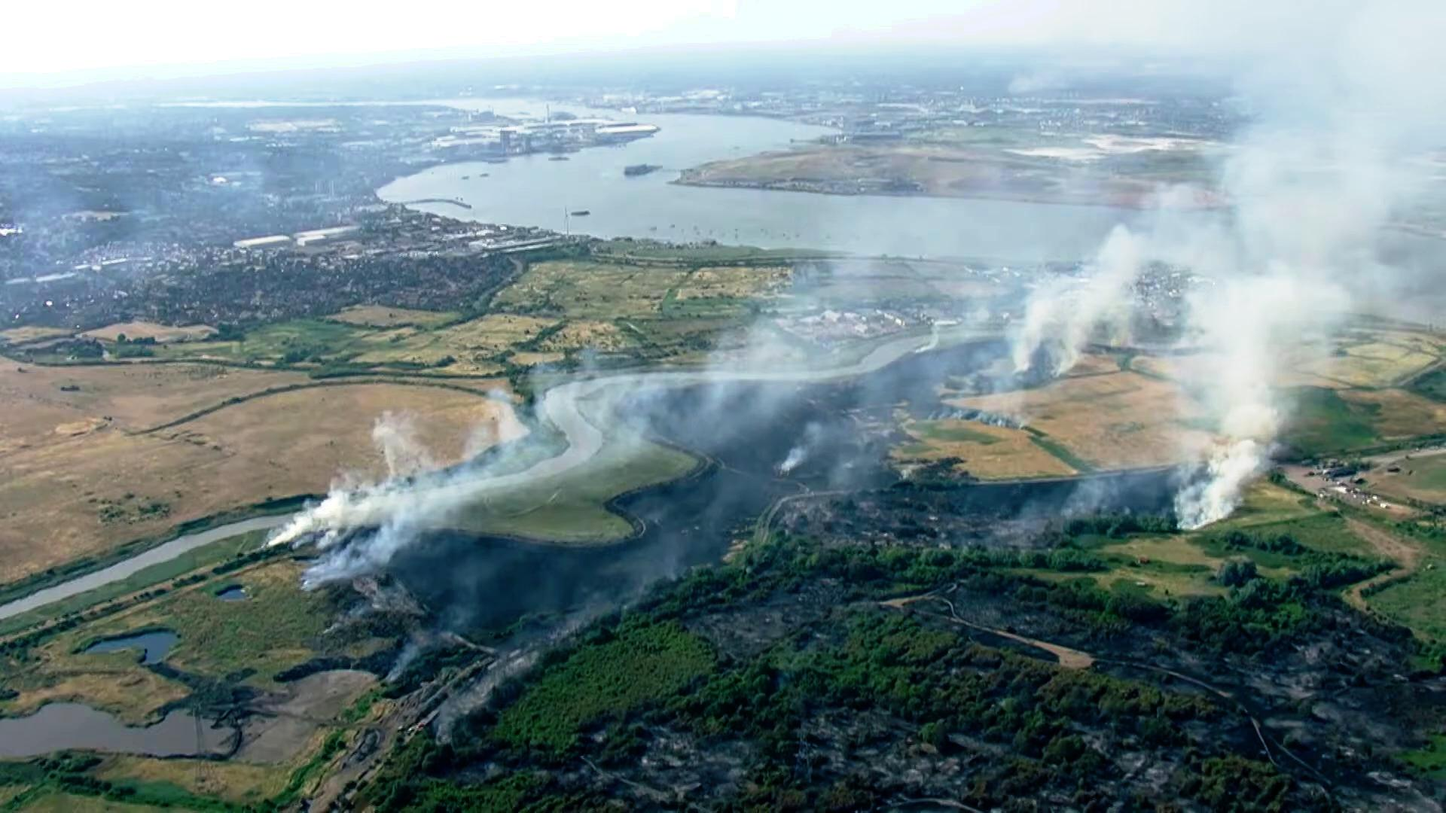smoke: (1215, 251, 1349, 396)
